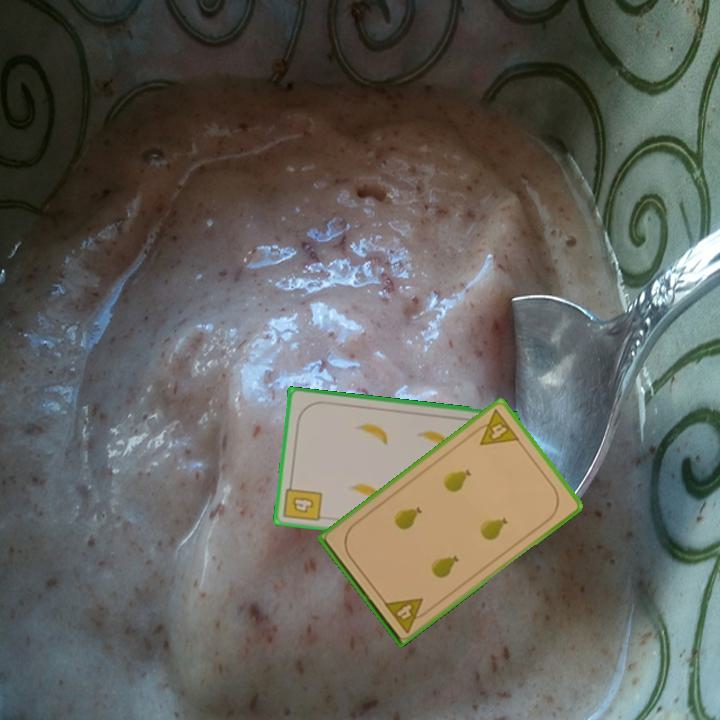4b: (280, 478, 325, 525)
4p: (468, 406, 522, 448), (380, 594, 433, 636)
